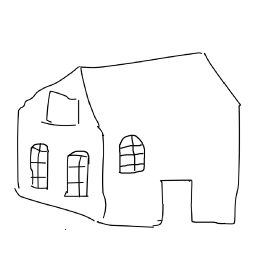closed_window: (61, 147, 98, 205), (114, 128, 150, 178), (25, 139, 57, 195)
door: (152, 176, 200, 226)
open_window: (42, 89, 83, 132)
single_line_roof: (14, 51, 248, 133)
wall: (9, 63, 114, 232)
